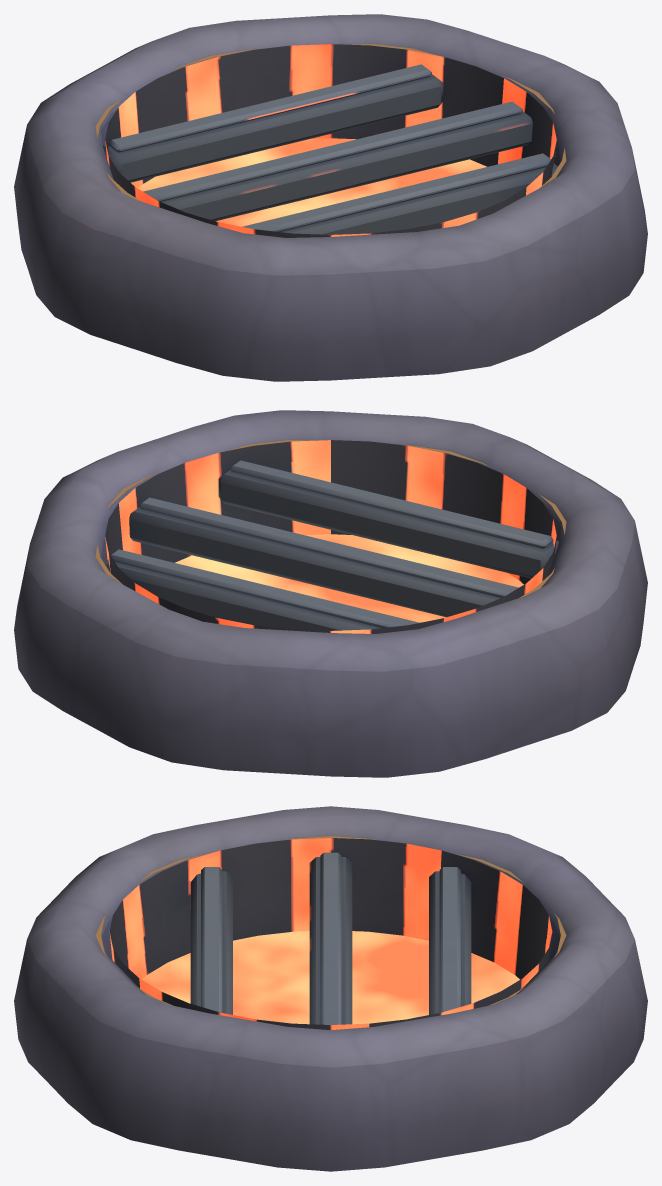
File: EF_P12_FlameVent.fbx
The picture shows the model from 3 angles, top to bottom: view 1: azimuth 30°, elevation 25°; view 2: azimuth 150°, elevation 25°; view 3: azimuth 270°, elevation 25°; orthographic projection. The views are drawn at different scales.
Visible parts, largest first — view 1: Rim, InnerWall, Bar_02, Bar_03, Bar_01; view 2: Rim, InnerWall, Bar_02, Bar_01, Bar_03; view 3: Rim, InnerWall, Bar_02, Bar_01, Bar_03.
Part boxes in pixels (x1,y1,x2,y2): Rim: (14, 14, 647, 381); InnerWall: (105, 44, 556, 237); Bar_02: (143, 101, 532, 221); Bar_03: (103, 64, 443, 182); Bar_01: (242, 153, 557, 234); Rim: (14, 410, 647, 777); InnerWall: (105, 440, 556, 633); Bar_02: (129, 497, 518, 617); Bar_01: (218, 460, 558, 578); Bar_03: (104, 549, 419, 630); Rim: (14, 806, 647, 1171); InnerWall: (109, 838, 552, 1030); Bar_02: (309, 852, 352, 1024); Bar_01: (190, 867, 232, 1014); Bar_03: (429, 867, 471, 1014).
Bounding box in the file's own units: 1.49 × 0.3 × 1.49.
